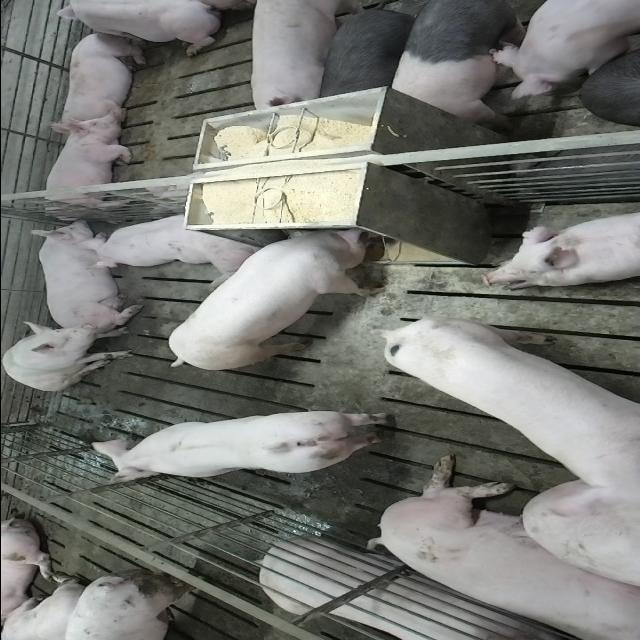Feeding: (165, 220, 391, 368)
Lateral_lying: (362, 453, 634, 637), (256, 537, 586, 640)
Sitting: (2, 320, 136, 390)
Standing: (372, 312, 634, 492), (86, 411, 398, 486), (384, 1, 563, 125), (484, 3, 640, 103), (247, 3, 349, 119), (311, 2, 421, 106)
Sternal_lying: (482, 208, 640, 288), (26, 216, 136, 326), (83, 210, 263, 274), (42, 2, 232, 56), (36, 114, 135, 214), (53, 29, 148, 128)
